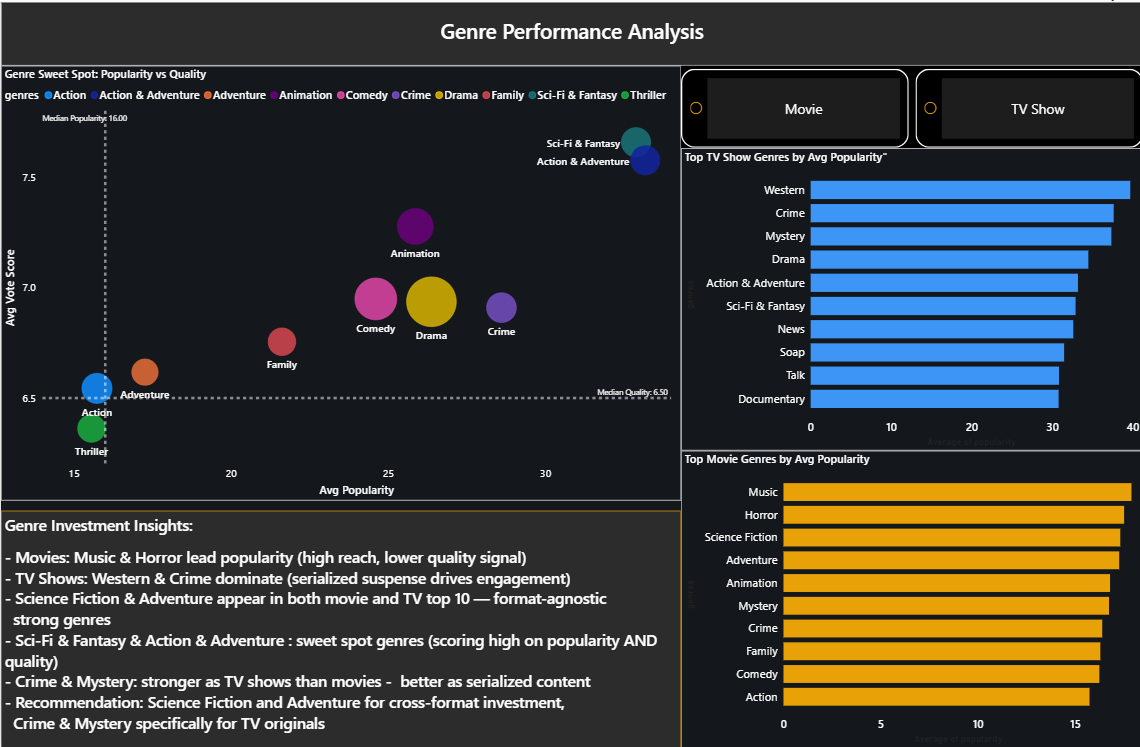

Layout of this report page (visuals, bound fields, positions):
{"tool":"powerbi","page":{"name":"Genre Performance","canvas":[1766,1153],"ordinal":1},"visuals":[{"type":"clusteredBarChart","title":"Top Movie Genres by Avg Popularity","fields":{"Category":["genre_analysis.genres"],"Y":["Avg(genre_analysis.popularity)"],"Series":["genre_analysis.content_type"]},"box":[1051,693.6,714.8,459.8],"z":0},{"type":"textbox","box":[0,0,1765.8,98.5],"z":1000},{"type":"clusteredBarChart","title":"Top TV Show Genres by Avg Popularity\"","fields":{"Category":["genre_analysis.genres"],"Y":["Avg(genre_analysis.popularity)"],"Series":["genre_analysis.content_type"]},"box":[1051,226,714.8,467.5],"z":2000},{"type":"scatterChart","title":"Genre Sweet Spot: Popularity vs Quality","fields":{"X":["Avg(genre_analysis.popularity)"],"Y":["Avg(genre_analysis.vote_average)"],"Series":["genre_analysis.genres"],"Size":["CountNonNull(genre_analysis.id)"]},"box":[0,98.5,1051,672.3],"z":3000},{"type":"advancedSlicerVisual","fields":{"Values":["genre_analysis.content_type"]},"box":[1051,98.5,714.8,127.5],"z":4000},{"type":"textbox","box":[0,786.3,1051,367.1],"z":5000}]}

Visuals, with their boxes in screenshot pixels (x1, y1, x2, y2), scaled from the page's 1766x1153 canvas onto the 1140x747 screenshot:
"Top Movie Genres by Avg Popularity" clusteredBarChart: detection(678, 449, 1139, 746)
textbox: detection(0, 0, 1139, 64)
"Top TV Show Genres by Avg Popularity"" clusteredBarChart: detection(678, 146, 1139, 449)
"Genre Sweet Spot: Popularity vs Quality" scatterChart: detection(0, 64, 678, 499)
advancedSlicerVisual - genre_analysis.content_type: detection(678, 64, 1139, 146)
textbox: detection(0, 509, 678, 746)
